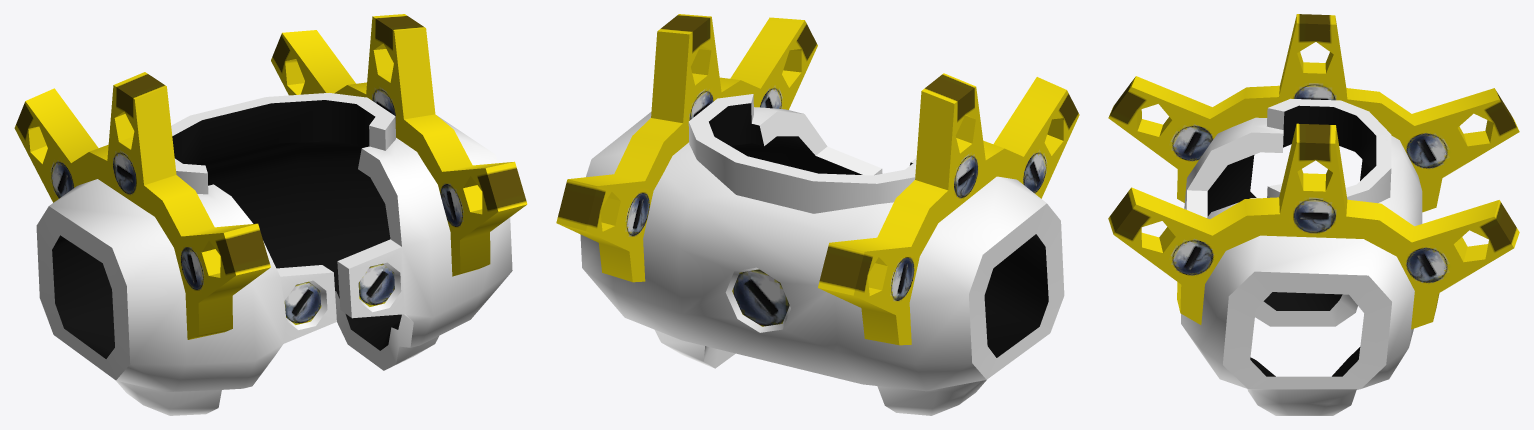
3 views of the same model, side by side, from view 1: azimuth 30°, elevation 25°; view 2: azimuth 150°, elevation 25°; view 3: azimuth 270°, elevation 25° (orthographic). The views are drawn at different scales.
Visible parts, largest first — view 1: Joint_0_Object_2, Joint_0_Object_0, Joint_0_Object_4, Joint_0_Object_5, Joint_0_Object_6, Joint_0_Object_1; view 2: Joint_0_Object_2, Joint_0_Object_4, Joint_0_Object_5, Joint_0_Object_0, Joint_0_Object_6, Joint_0_Object_3; view 3: Joint_0_Object_2, Joint_0_Object_4, Joint_0_Object_5, Joint_0_Object_6, Joint_0_Object_0.
Part boxes in pixels (x1,y1,x2,y2): Joint_0_Object_2: (36,93,512,415); Joint_0_Object_0: (52,100,401,358); Joint_0_Object_4: (14,14,527,302); Joint_0_Object_5: (42,75,490,339); Joint_0_Object_6: (71,82,472,238); Joint_0_Object_1: (284,263,394,324); Joint_0_Object_2: (580,94,1064,415); Joint_0_Object_4: (556,14,1079,315); Joint_0_Object_5: (599,74,1051,345); Joint_0_Object_0: (709,103,1048,357); Joint_0_Object_6: (614,77,1023,246); Joint_0_Object_3: (732,269,789,326); Joint_0_Object_2: (1181,98,1422,415); Joint_0_Object_4: (1108,14,1519,292); Joint_0_Object_5: (1159,73,1467,329); Joint_0_Object_6: (1210,85,1414,251); Joint_0_Object_0: (1207,105,1376,376).
Bounding box in the file's own units: 79.21 × 63.78 × 81.38.
6 materials, 5 textured.
